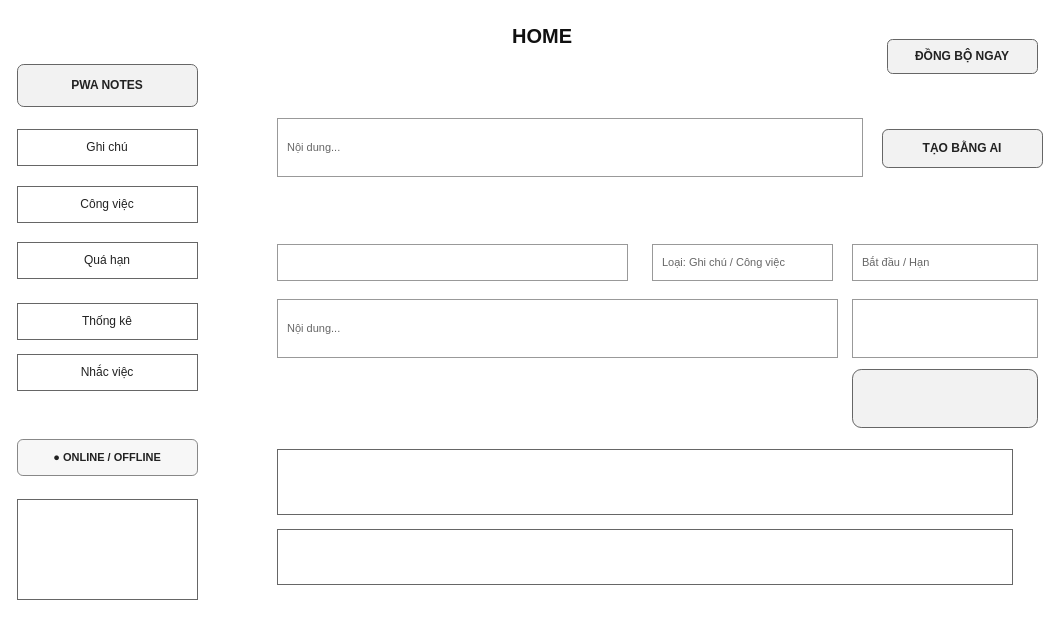
Image size: 1060x617. Some labels were removed from this diagram. Each missing label, with the centre of its shape:
LƯU: (945,398)
Tags: (945,328)
Tiêu đề: (452,262)
Tài khoản - Đổi mật khẩu Đăng xuất: (107,549)
☐ Báo cáo tuần 2 | Hạn: 11/10 Trạng thái: chờ đồng bộ / đã đồng bộ: (644,481)
☐ Tối dìa rước con lúc 18h | Hạn 18h 03/10 Trạng thái: đã đồng bộ: (644,556)
